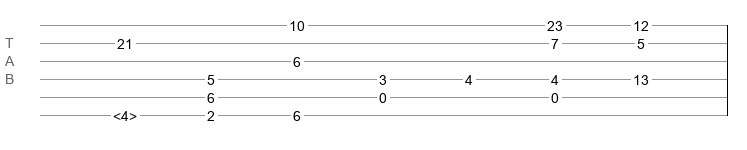0: (379, 90, 387, 100), (551, 90, 559, 100)
10: (289, 18, 305, 28)
12: (633, 18, 649, 28)
13: (633, 72, 649, 82)
2: (207, 108, 215, 118)
21: (117, 36, 133, 46)
23: (547, 18, 563, 28)
3: (379, 72, 387, 82)
4: (465, 72, 473, 82), (551, 72, 559, 82)
5: (207, 72, 215, 82), (637, 36, 645, 46)
6: (207, 90, 215, 100), (293, 108, 301, 118), (293, 54, 301, 64)
7: (551, 36, 559, 46)
harmonic: (113, 108, 137, 118)
